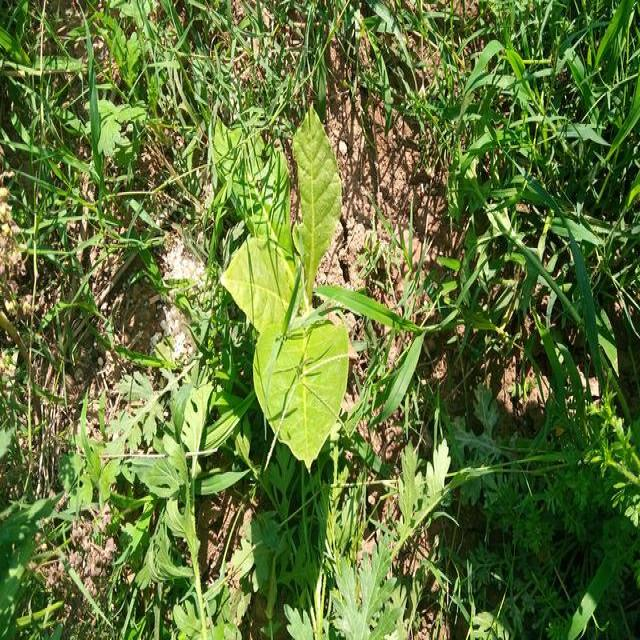crop: (226, 128, 352, 459)
